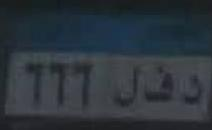6: (72, 61, 95, 107), (47, 62, 70, 107), (23, 61, 45, 107)
daal: (183, 74, 207, 103)
faa: (142, 60, 175, 104)
laam: (116, 68, 139, 107)
